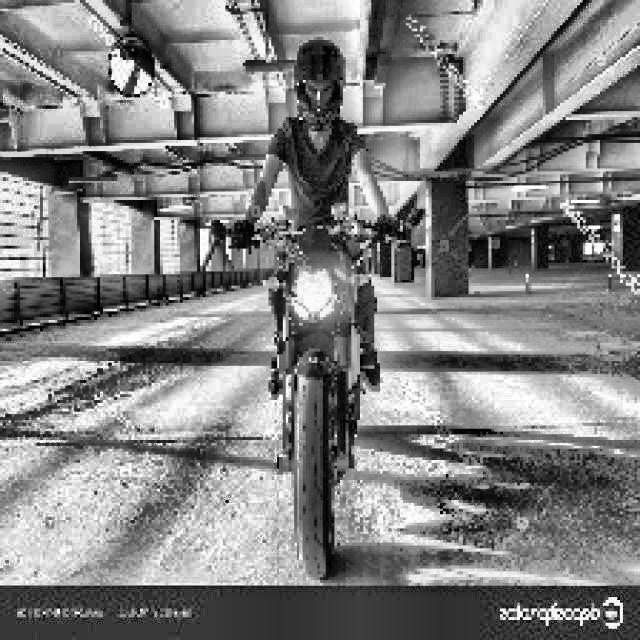motorcycle: (212, 202, 440, 580)
